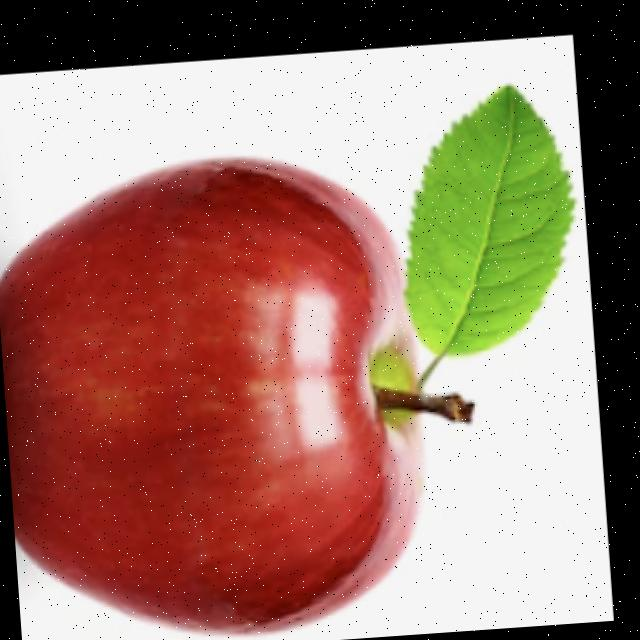Ripe: (0, 141, 460, 640)
